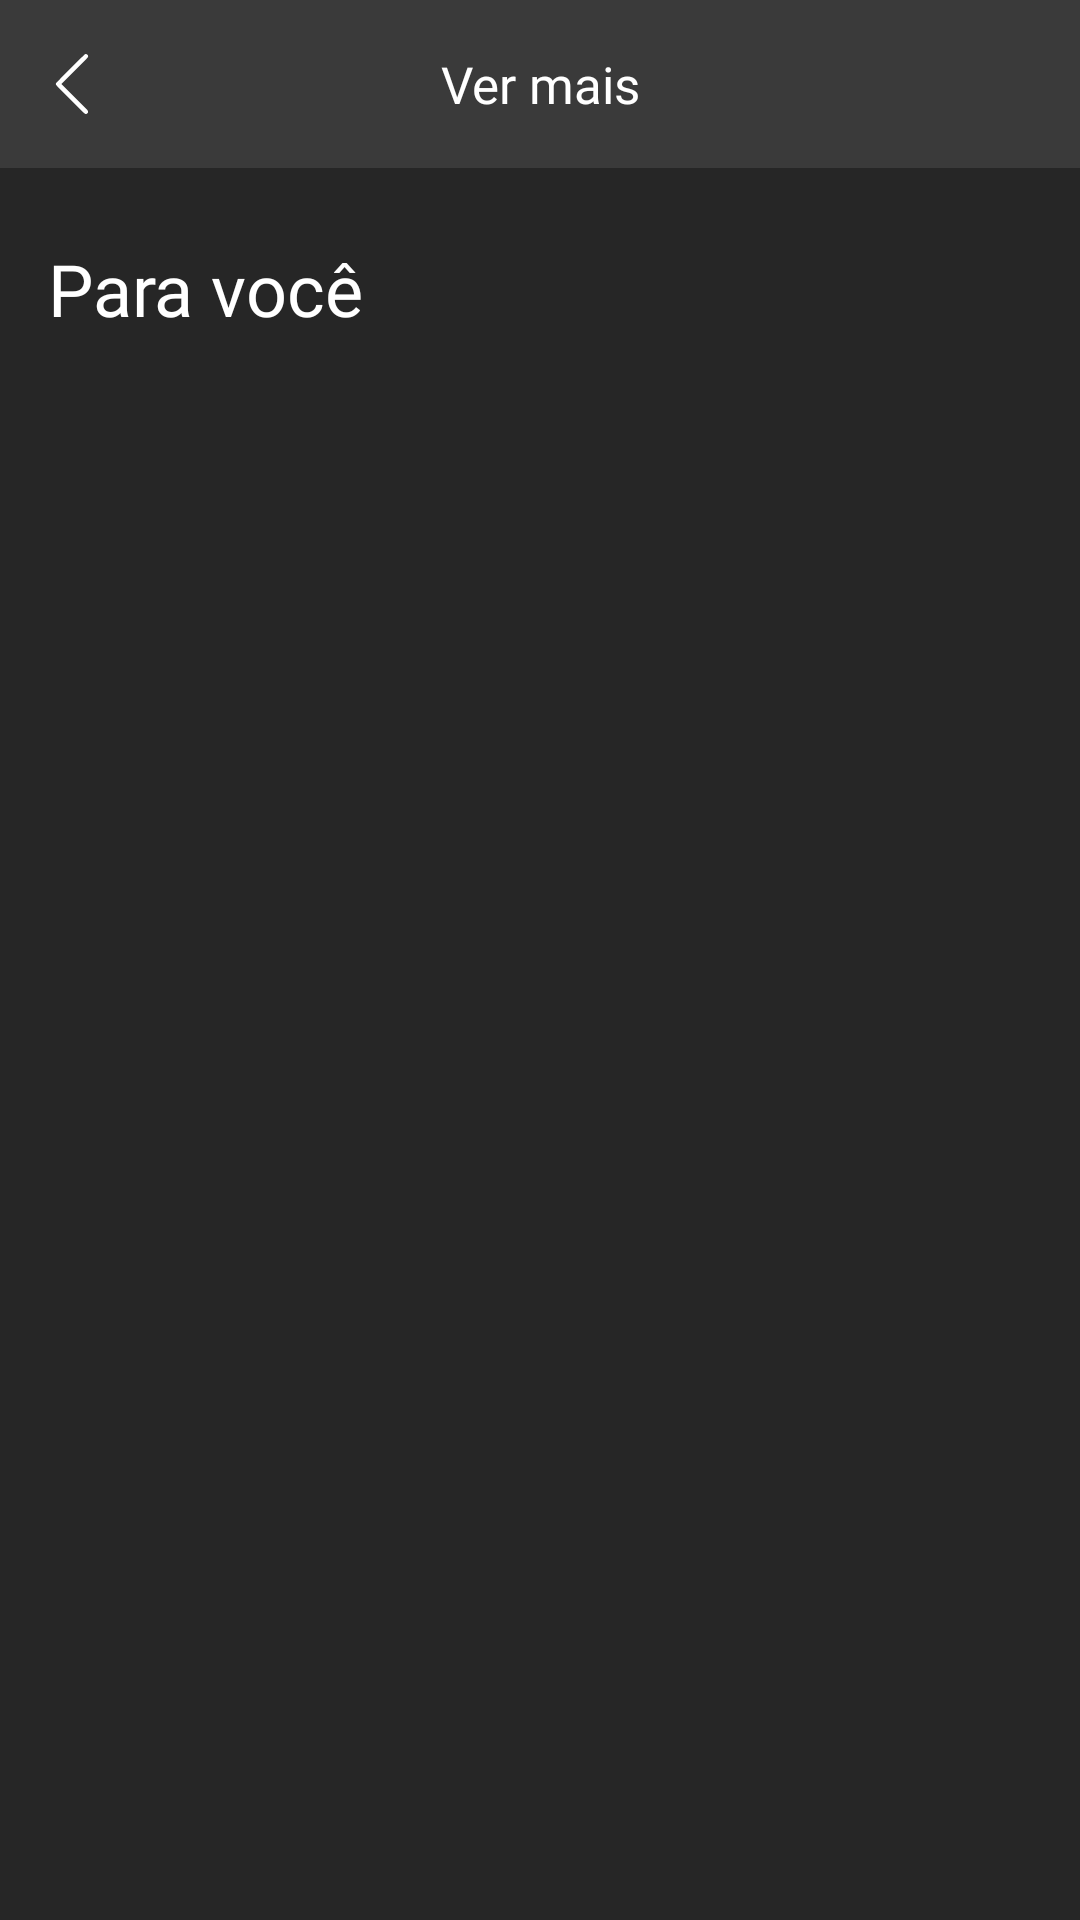

Locate icon controls on the screen. Image size 1080 × 1920, boxes as BBox(x1, y1, x2, y2).
left arrow: BBox(56, 54, 88, 114)
